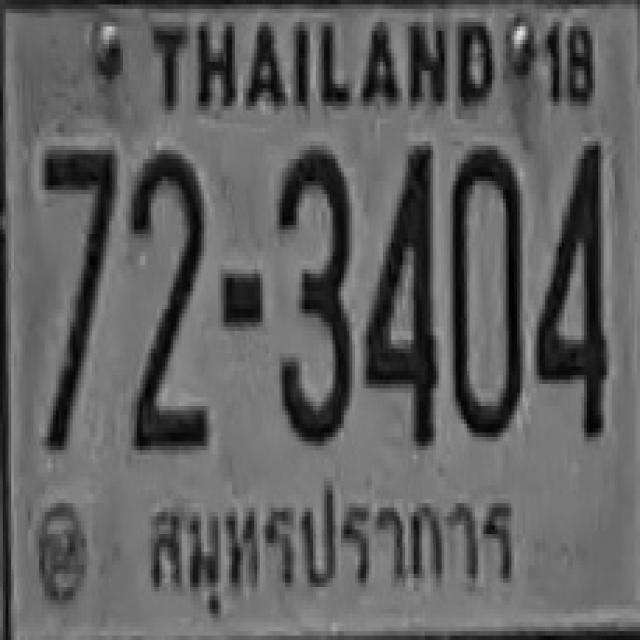0: (449, 143, 521, 435)
2: (127, 148, 206, 448)
3: (274, 146, 349, 441)
4: (362, 142, 437, 442), (534, 137, 606, 432)
7: (41, 148, 113, 448), (41, 146, 113, 353)
SamutPrakan: (135, 469, 524, 624)
